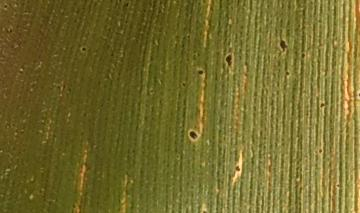tarspot: (184, 126, 206, 146), (221, 50, 237, 72), (275, 37, 291, 54), (195, 64, 207, 80), (282, 67, 293, 83), (232, 161, 243, 176), (317, 100, 328, 112), (295, 50, 308, 60), (77, 45, 89, 55), (178, 79, 189, 89), (316, 146, 325, 155)
